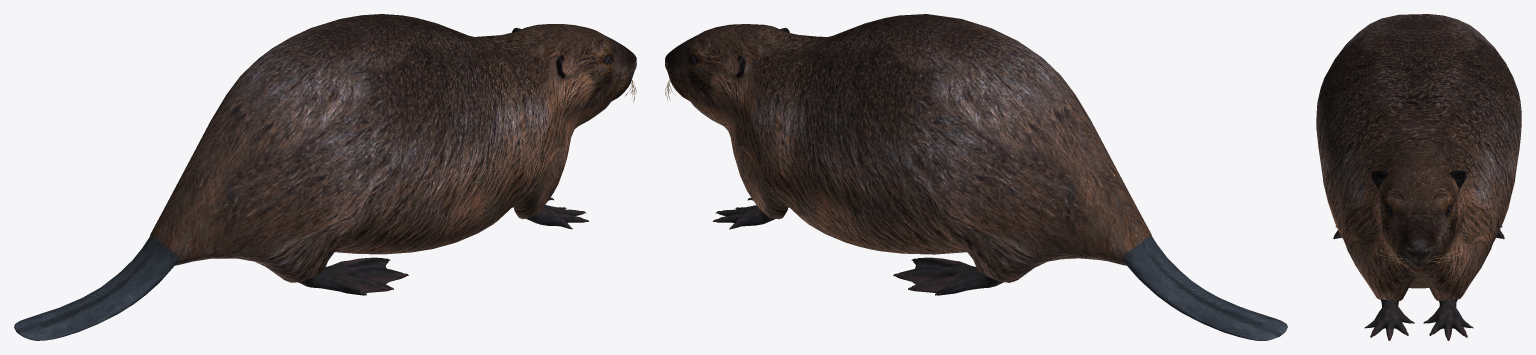
Rendered from Castor.fbx.
The picture shows the model from 3 angles, left to right: view 1: azimuth 30°, elevation 25°; view 2: azimuth 150°, elevation 25°; view 3: azimuth 270°, elevation 25°; orthographic projection. The views are drawn at different scales.
Visible parts, largest first — view 1: 13098_NorthAmericanBeaver_v1_l2; view 2: 13098_NorthAmericanBeaver_v1_l2; view 3: 13098_NorthAmericanBeaver_v1_l2.
Boxes of the visible parts, left/top/right/bottom form: 13098_NorthAmericanBeaver_v1_l2: left=14, top=14, right=636, bottom=340; 13098_NorthAmericanBeaver_v1_l2: left=665, top=14, right=1287, bottom=340; 13098_NorthAmericanBeaver_v1_l2: left=1316, top=14, right=1521, bottom=340.
Size of the model in its own units: 1976 by 690 by 601.
